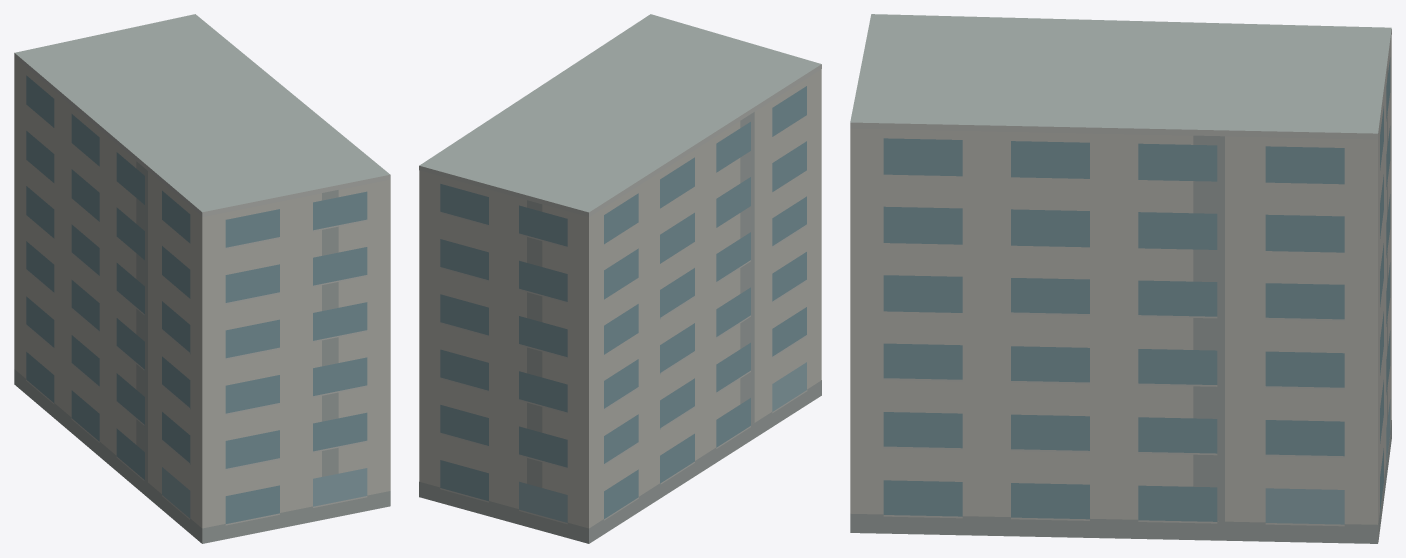
File: survey-upis-32565635.glb
3 views of the same model, side by side, from view 1: azimuth 30°, elevation 25°; view 2: azimuth 150°, elevation 25°; view 3: azimuth 270°, elevation 25° (orthographic). The views are drawn at different scales.
Visible parts, largest first — view 1: survey-upis-32565635.tmp; view 2: survey-upis-32565635.tmp; view 3: survey-upis-32565635.tmp.
Part boxes in pixels (bbox=[...]): survey-upis-32565635.tmp: bbox=[14, 14, 390, 543]; survey-upis-32565635.tmp: bbox=[419, 14, 821, 543]; survey-upis-32565635.tmp: bbox=[850, 14, 1391, 543].
Size of the model in its own units: 10.63 by 17 by 20.35.
